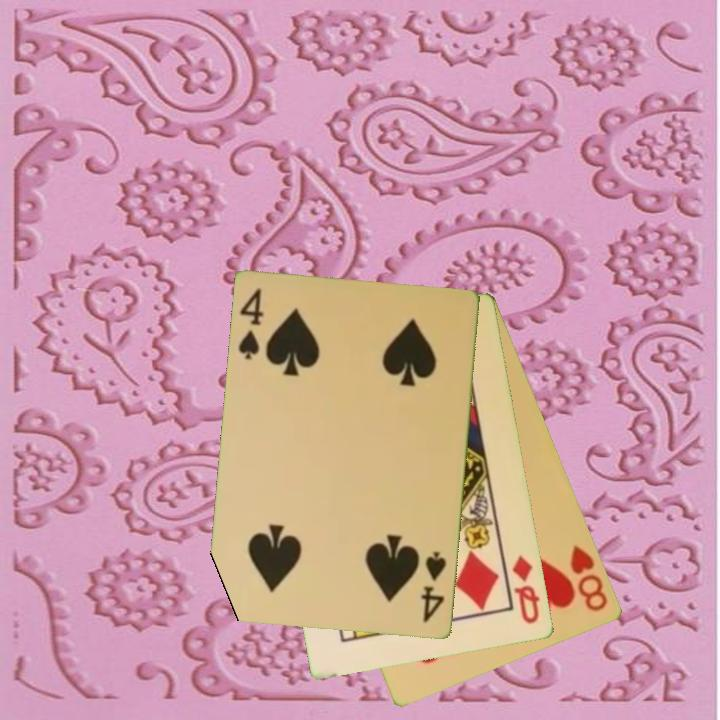4s: (417, 548, 450, 626), (235, 285, 267, 364)
8h: (567, 542, 611, 615)
Qd: (509, 552, 543, 627)
